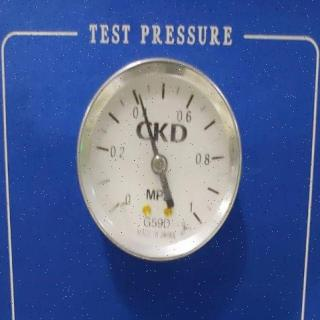gauge: (66, 48, 254, 314), (107, 193, 131, 215), (186, 202, 205, 226), (150, 153, 168, 174), (135, 90, 145, 104)
